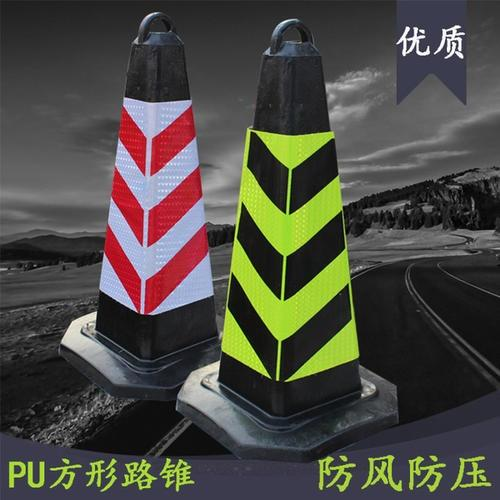cone_barrel: (201, 18, 380, 438), (66, 10, 229, 384)
